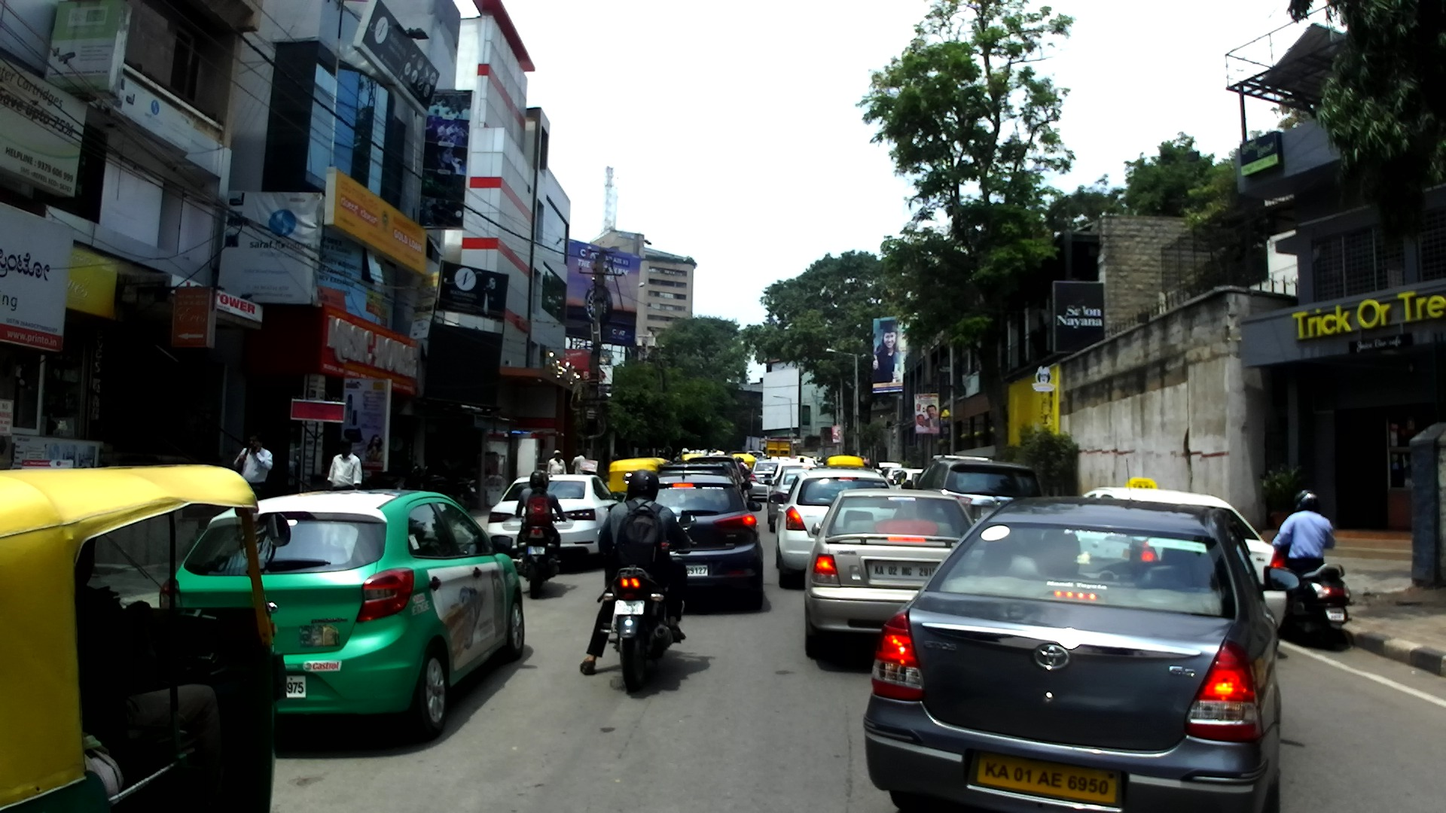autorickshaw: (1, 464, 291, 812), (607, 455, 674, 503), (824, 456, 865, 473), (728, 451, 755, 472), (677, 452, 705, 466)
car: (861, 458, 1304, 813), (227, 488, 525, 743), (1073, 477, 1287, 643), (804, 489, 986, 672), (627, 470, 762, 614), (770, 470, 894, 590), (486, 473, 625, 570), (902, 454, 1039, 522), (764, 469, 828, 534), (686, 456, 751, 510), (660, 462, 733, 505), (765, 464, 822, 505), (746, 457, 789, 503), (894, 467, 926, 490), (882, 469, 914, 482), (875, 462, 903, 476), (795, 454, 817, 471), (743, 449, 765, 461), (767, 456, 793, 465)
motorcycle: (593, 514, 693, 696), (1268, 534, 1349, 650), (515, 513, 566, 601), (414, 465, 474, 511), (395, 472, 465, 507), (376, 472, 443, 498)
person: (235, 431, 273, 507), (328, 437, 363, 495), (547, 449, 566, 479), (571, 449, 587, 478), (861, 455, 871, 471)
rider: (579, 467, 688, 675), (1271, 489, 1340, 601), (515, 469, 565, 569), (733, 458, 749, 486), (738, 458, 749, 482), (871, 461, 882, 479), (798, 456, 805, 464), (764, 455, 771, 461)
truck: (762, 437, 795, 464)
vehicle fallback: (678, 446, 725, 461)
